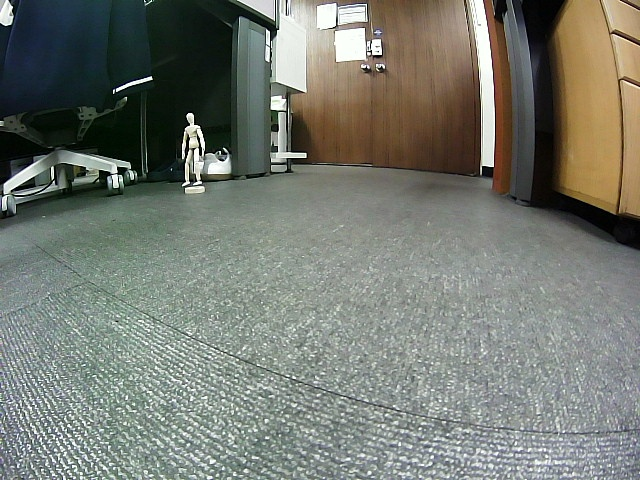person: (181, 111, 205, 187)
